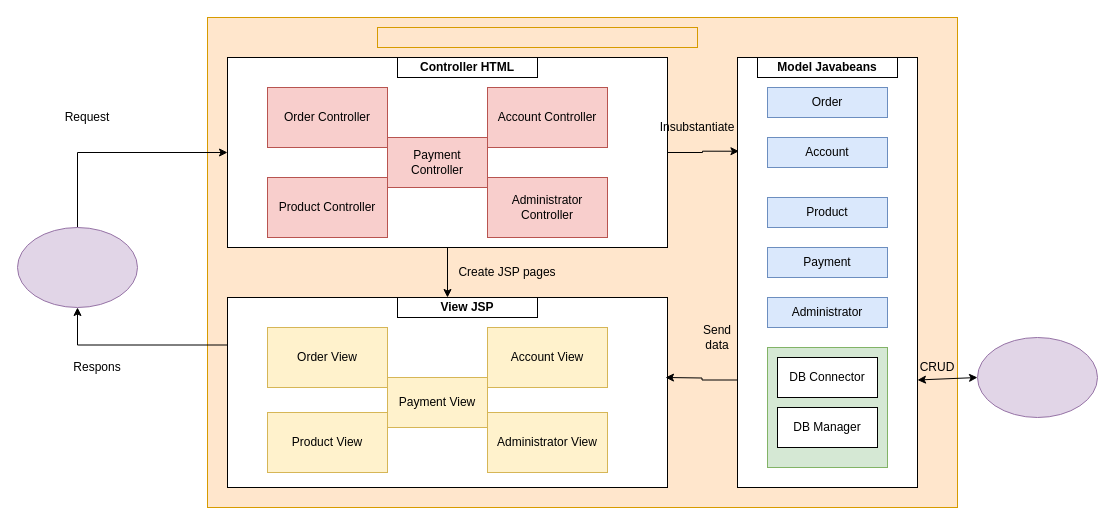
Image size: 1115x525. Some labels were removed from this diagram. Each missing label, with the centre of its shape:
Application Server: (x=537, y=37)
Online Broswer/Client: (x=77, y=267)
SQL Server: (x=1037, y=377)
